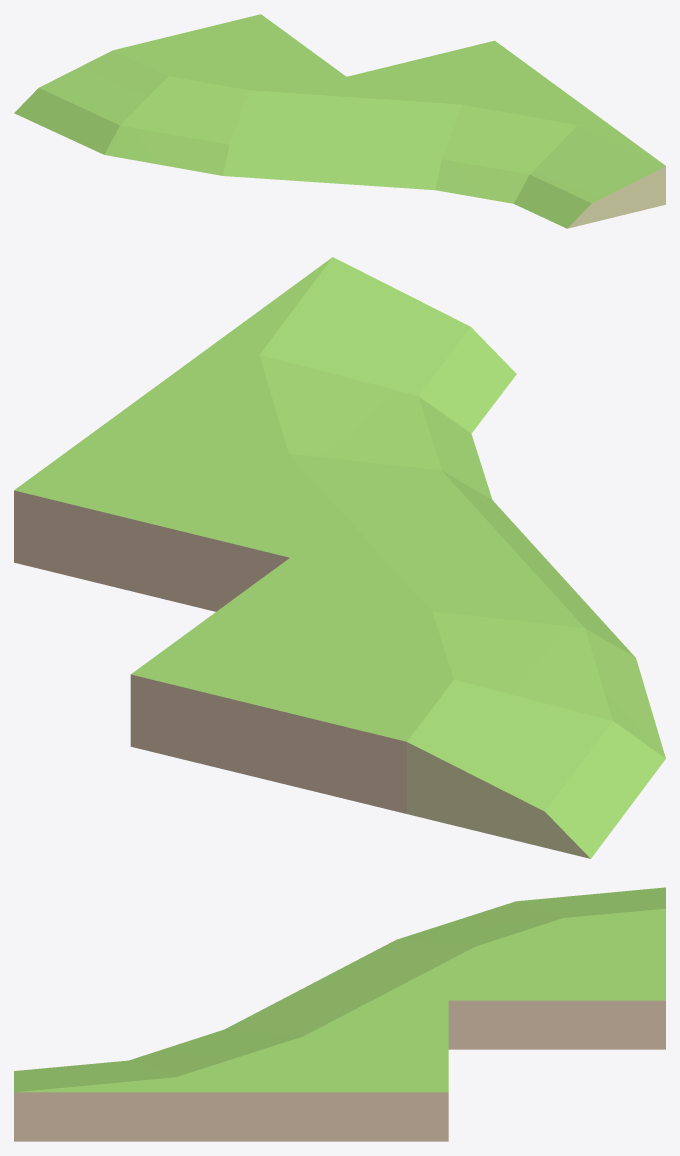
File: Grass_Carpet_Esse_3x3.fbx
3 renders of one model, top to bottom at view 1: azimuth 30°, elevation 25°; view 2: azimuth 150°, elevation 25°; view 3: azimuth 270°, elevation 25°, orthographic. The views are drawn at different scales.
Parts seen in each view (by area): view 1: Grass_Carpet_Esse_3x3; view 2: Grass_Carpet_Esse_3x3; view 3: Grass_Carpet_Esse_3x3.
Boxes of the visible parts, bbox=[...] form: Grass_Carpet_Esse_3x3: bbox=[14, 14, 665, 228]; Grass_Carpet_Esse_3x3: bbox=[14, 257, 665, 858]; Grass_Carpet_Esse_3x3: bbox=[14, 887, 665, 1141].
Bounding box in the file's own units: 267 × 25 × 300.
